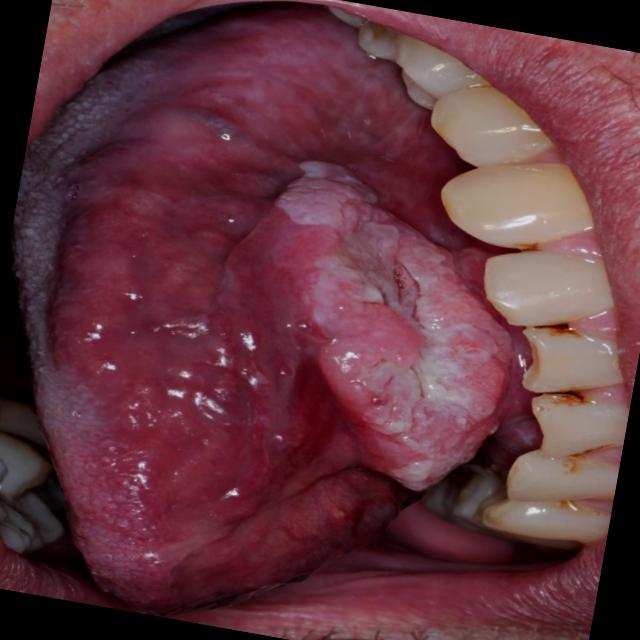Cancer: (28, 10, 288, 468), (248, 150, 510, 497)
